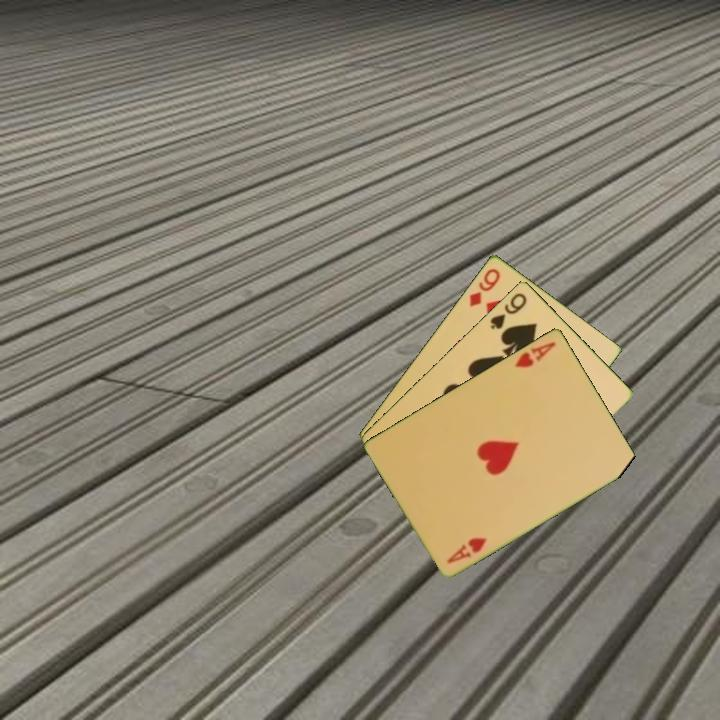9d: (466, 264, 503, 309)
9s: (486, 289, 530, 332)
Ah: (511, 337, 559, 370), (443, 533, 490, 566)
